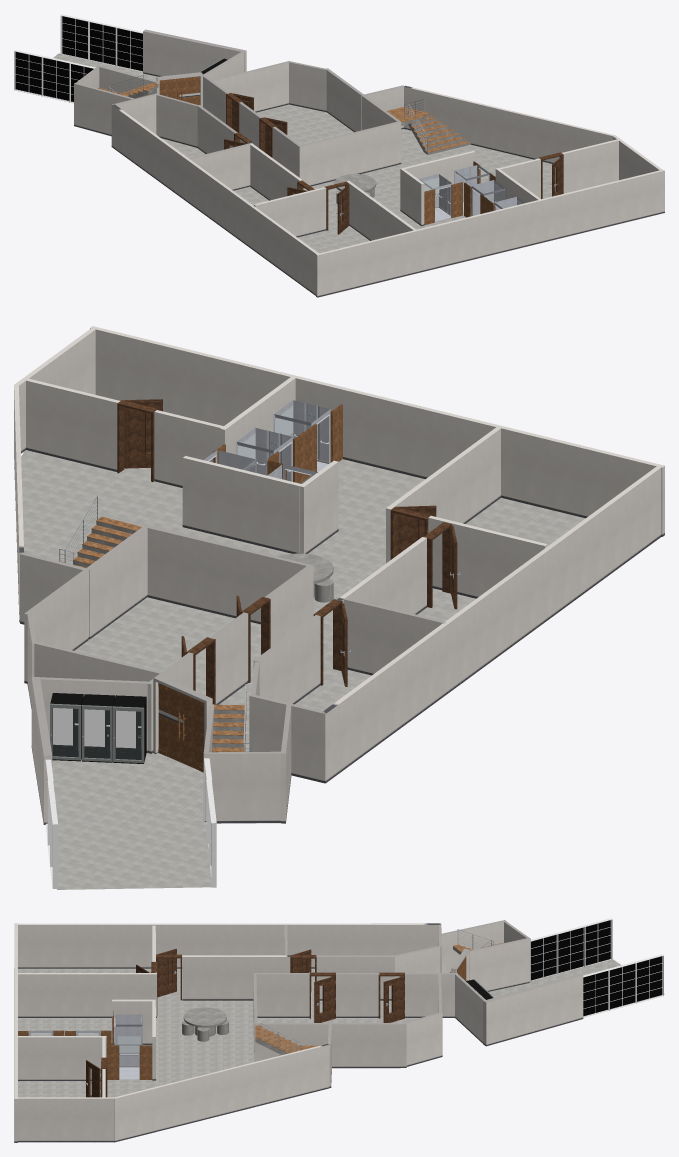
File: TorreAntiguaConexion.glb
The picture shows the model from 3 angles, top to bottom: view 1: azimuth 30°, elevation 25°; view 2: azimuth 150°, elevation 25°; view 3: azimuth 270°, elevation 25°; orthographic projection. The views are drawn at different scales.
Visible parts, largest first — view 1: Paredes.015, Piso, Paredes.017, Paredes, Paredes.016, Paredes.001, Paredes.033, Paredes.024, Paredes.027, Paredes.009, Paredes.022, Paredes.007 (+35 smaller); view 2: Piso, Paredes.015, Paredes.016, Paredes.001, Paredes, Plano, Paredes.033, Paredes.031, Paredes.027, Paredes.007, Paredes.010, Paredes.009 (+34 smaller); view 3: Piso, Paredes.001, Paredes.017, Paredes.016, Paredes.007, Paredes.024, Paredes.002, Paredes.030, Paredes.019, Paredes.034, Paredes.018, Paredes.014 (+29 smaller).
Part boxes in pixels (<box>): Paredes.015: <box>316,169,664,297</box>; Piso: <box>140,73,664,297</box>; Paredes.017: <box>404,85,615,163</box>; Paredes: <box>316,193,660,296</box>; Paredes.016: <box>111,104,319,275</box>; Paredes.001: <box>111,104,318,295</box>; Paredes.033: <box>301,121,398,188</box>; Paredes.024: <box>143,29,246,76</box>; Paredes.027: <box>562,139,618,193</box>; Paredes.009: <box>254,187,326,237</box>; Paredes.022: <box>211,61,288,112</box>; Paredes.007: <box>346,180,415,240</box>; Piso: <box>21,450,585,823</box>; Paredes.015: <box>90,326,664,536</box>; Paredes.016: <box>322,465,661,747</box>; Paredes.001: <box>324,466,662,782</box>; Paredes: <box>95,330,664,532</box>; Plano: <box>57,820,211,889</box>; Paredes.033: <box>147,526,309,624</box>; Paredes.031: <box>182,456,301,553</box>; Paredes.027: <box>23,378,120,471</box>; Paredes.007: <box>386,427,501,563</box>; Paredes.010: <box>204,751,280,823</box>; Paredes.009: <box>428,515,547,598</box>; Piso: <box>14,968,534,1142</box>; Paredes.001: <box>16,923,440,947</box>; Paredes.017: <box>114,1043,329,1142</box>; Paredes.016: <box>16,923,440,968</box>; Paredes.007: <box>16,972,156,1017</box>; Paredes.024: <box>483,973,583,1046</box>; Paredes.002: <box>182,955,290,1000</box>; Paredes.030: <box>16,1036,106,1080</box>; Paredes.019: <box>332,1023,406,1068</box>; Paredes.034: <box>466,938,530,991</box>; Paredes.018: <box>15,1097,114,1142</box>; Paredes.014: <box>253,973,309,1017</box>.
Size of the model in its own units: 40.63 by 6.15 by 60.88.
Materials: 70 (8 with a texture image).
